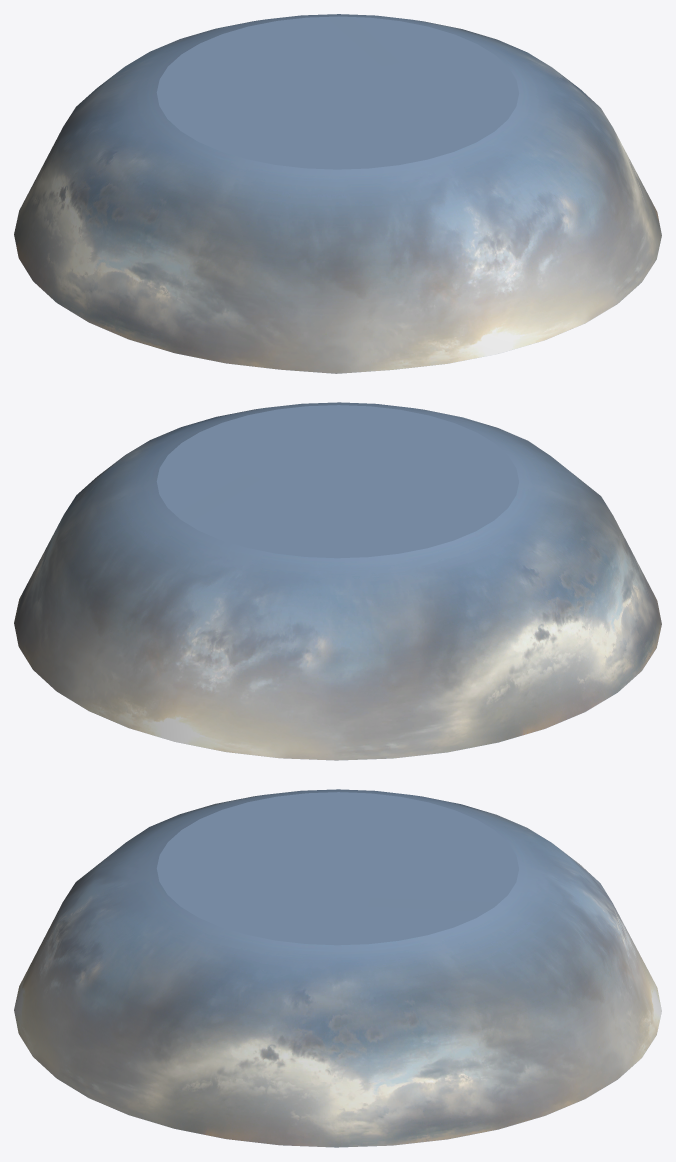
Rendered from Sky.fbx.
3 renders of one model, top to bottom at view 1: azimuth 30°, elevation 25°; view 2: azimuth 150°, elevation 25°; view 3: azimuth 270°, elevation 25°, orthographic.
Parts seen in each view (by area): view 1: Sky; view 2: Sky; view 3: Sky.
Boxes of the visible parts, x1,y1,x2,y2 form: Sky: [14, 14, 661, 373]; Sky: [14, 402, 661, 760]; Sky: [14, 789, 661, 1147].
Size of the model in its own units: 5751 by 1414 by 5751.
